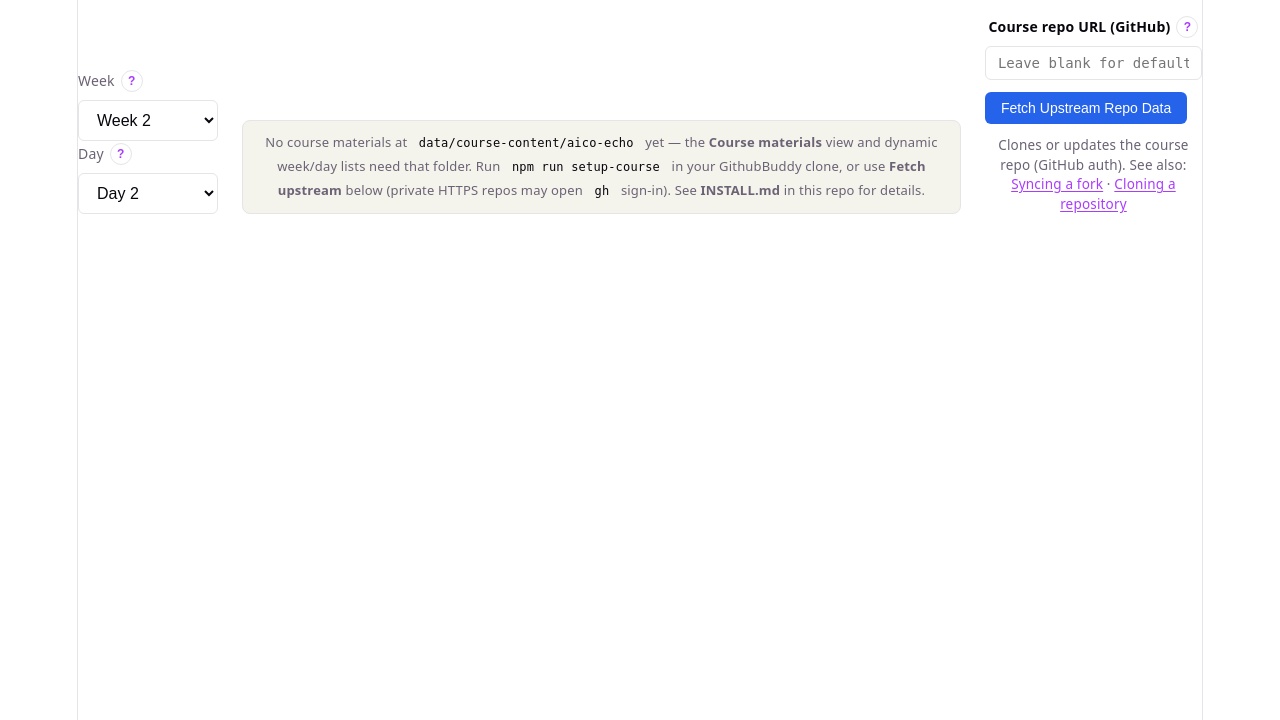
DaySelector › fetch upstream: success updates status
What coordinates should you click on to do the following:
click the button "Fetch Upstream Repo Data"
I would click on:
 (1086, 108)
Its box is left=985, top=92, right=1187, bottom=124.
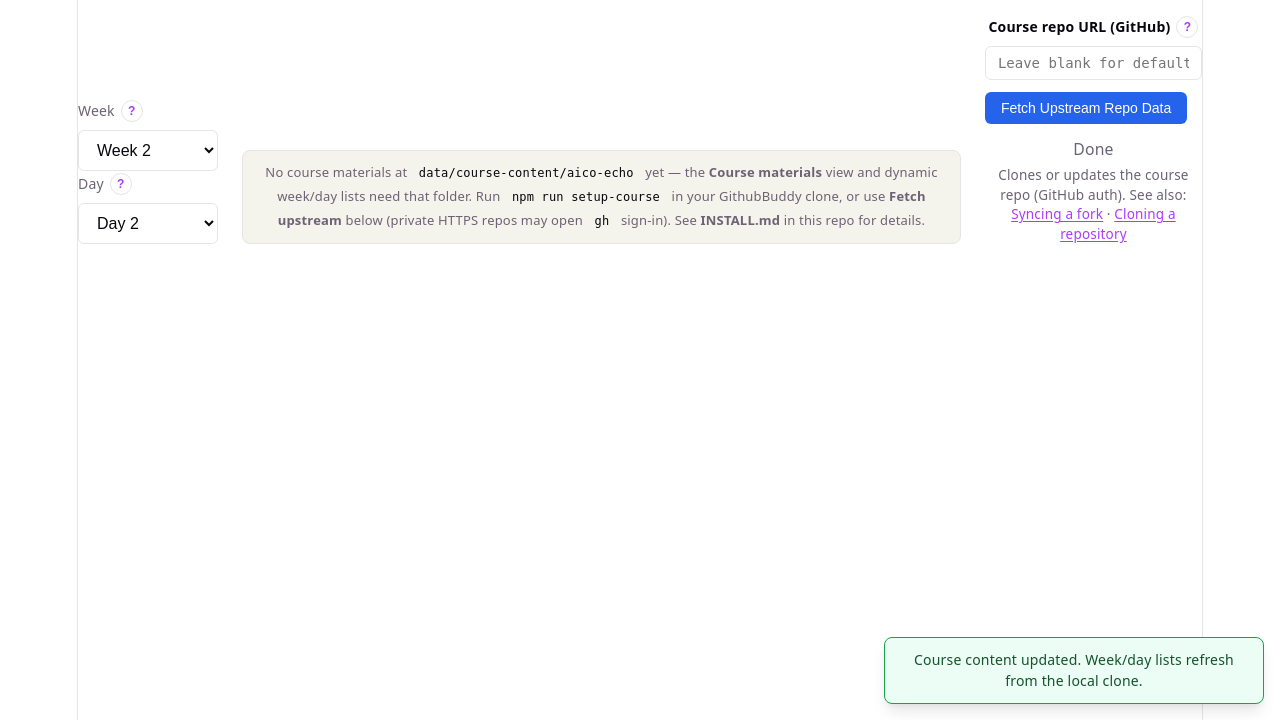
Result: the text "Done" is shown at left=1073, top=138, right=1114, bottom=160
